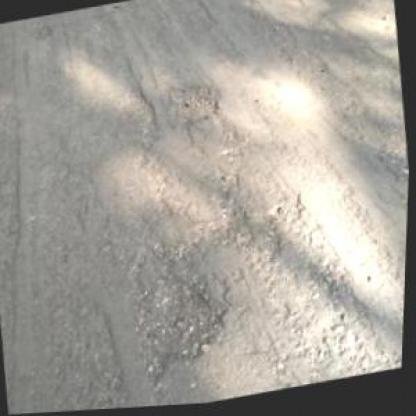pothole: (126, 272, 240, 384), (165, 79, 225, 132), (30, 24, 56, 42)
